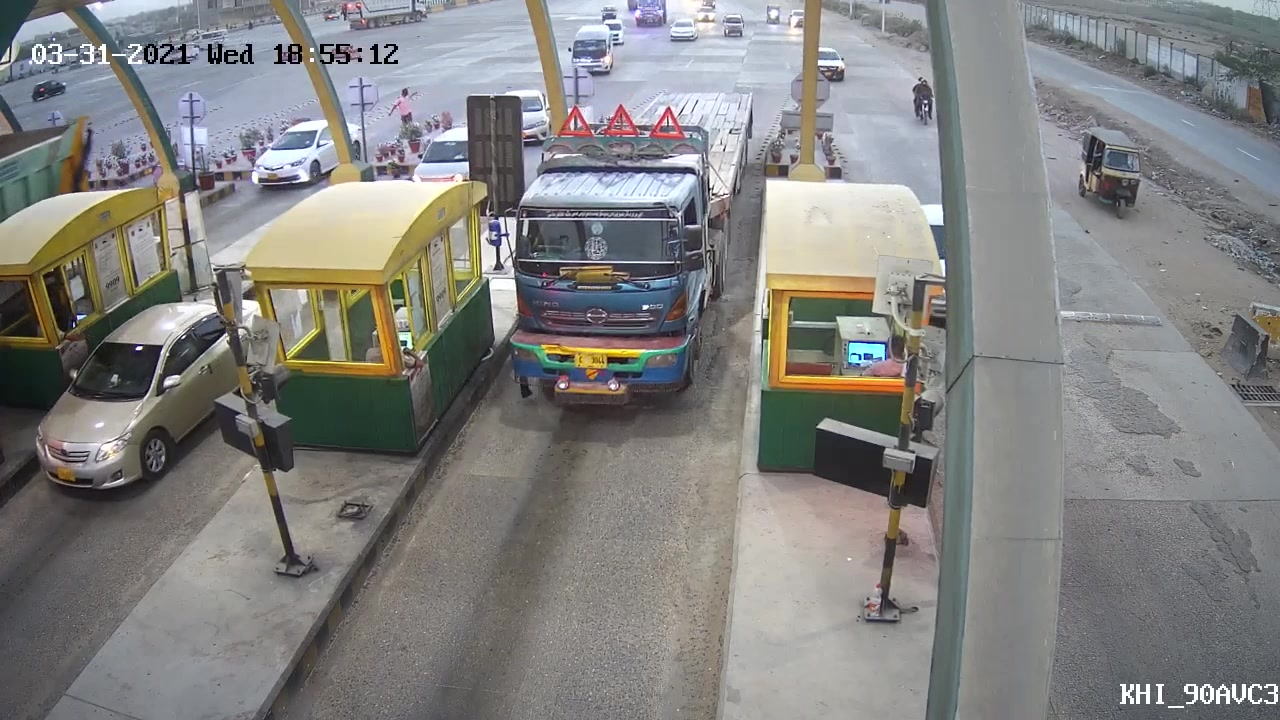F6: (491, 83, 753, 413)
